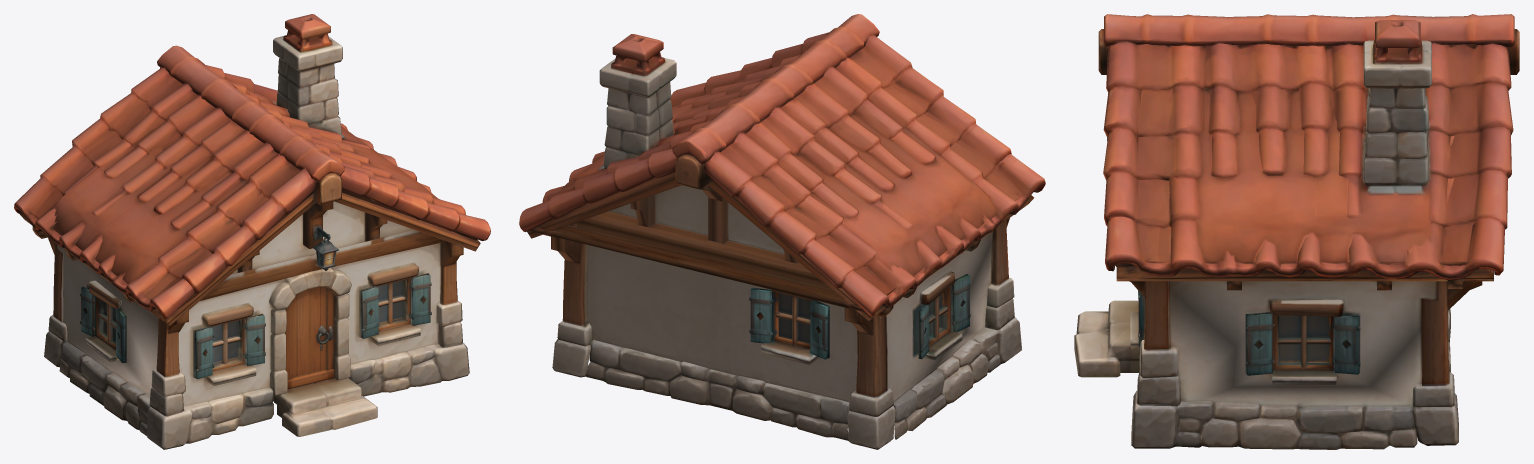
Rendered from cottage.glb.
3 views of the same model, side by side, from view 1: azimuth 30°, elevation 25°; view 2: azimuth 150°, elevation 25°; view 3: azimuth 270°, elevation 25° (orthographic). The views are drawn at different scales.
Parts seen in each view (by area): view 1: tripo_node_2f1e9d58-aa9f-4430-a83f-06b9d4e0e2ce; view 2: tripo_node_2f1e9d58-aa9f-4430-a83f-06b9d4e0e2ce; view 3: tripo_node_2f1e9d58-aa9f-4430-a83f-06b9d4e0e2ce.
Part boxes in pixels (bbox=[...]): tripo_node_2f1e9d58-aa9f-4430-a83f-06b9d4e0e2ce: bbox=[14, 14, 490, 449]; tripo_node_2f1e9d58-aa9f-4430-a83f-06b9d4e0e2ce: bbox=[519, 14, 1045, 449]; tripo_node_2f1e9d58-aa9f-4430-a83f-06b9d4e0e2ce: bbox=[1074, 14, 1519, 449].
Bounding box in the file's own units: 0.9995 × 0.8599 × 0.8862.
Materials: 1 (1 with a texture image).
